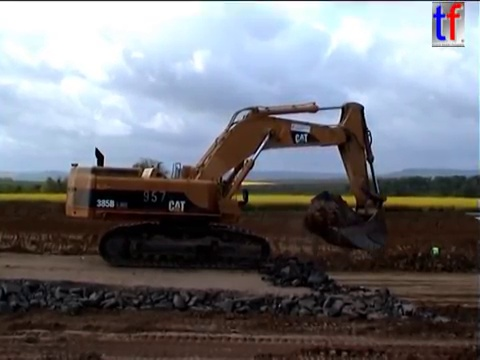excavator: (62, 98, 392, 272)
